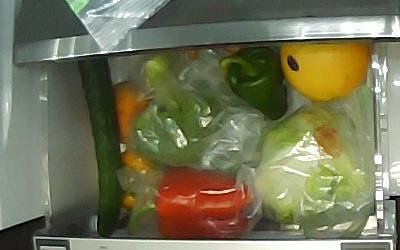broccoli_vinyl: (127, 55, 224, 166)
cucumber: (76, 61, 121, 237)
grapefruit: (279, 41, 370, 101)
lettuce_vinyl: (253, 105, 366, 223)
paprika: (218, 47, 288, 121)
paprika_vinyl: (126, 167, 251, 240)
peach: (112, 79, 153, 146)
